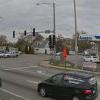Car: (32, 63, 100, 99)
